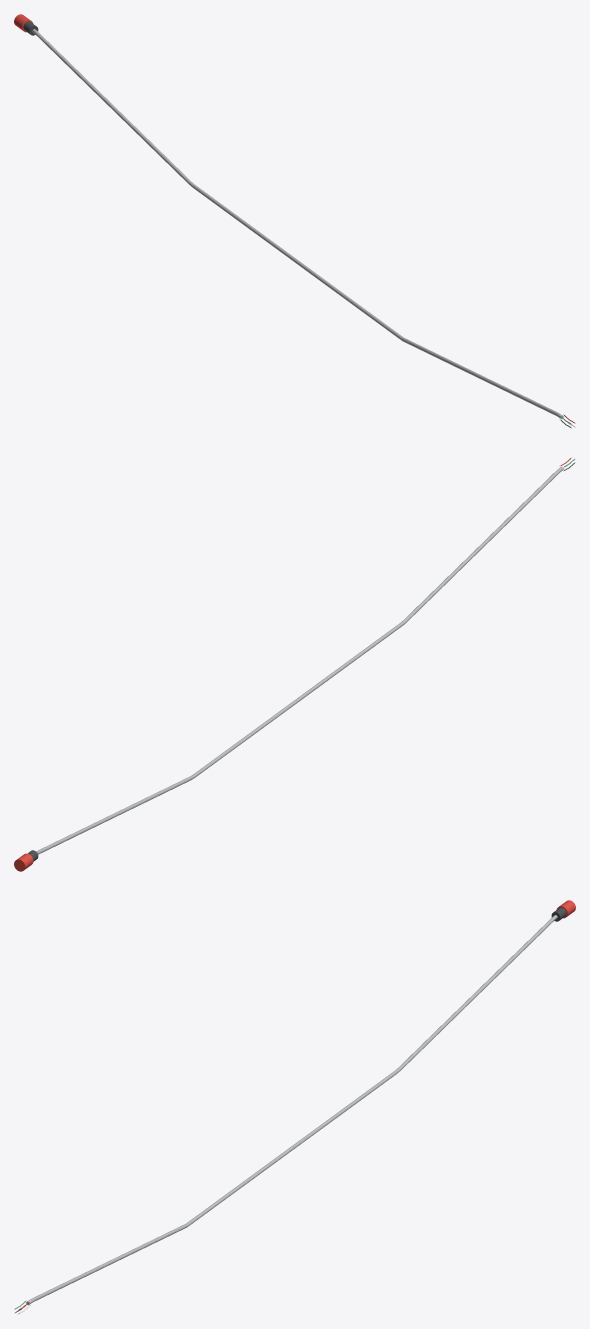
Rendered from cable-pwr-480.glb.
3 renders of one model, top to bottom at view 1: azimuth 30°, elevation 25°; view 2: azimuth 150°, elevation 25°; view 3: azimuth 330°, elevation 25°, orthographic.
Parts seen in each view (by area): view 1: body; view 2: body; view 3: body.
Part boxes in pixels (x1=…): body: x1=23, y1=21, x2=573, y2=427; body: x1=28, y1=458, x2=574, y2=861; body: x1=16, y1=907, x2=566, y2=1313.
Size of what is drawn, in the model's own units: 0.048 by 0.186 by 4.06.
